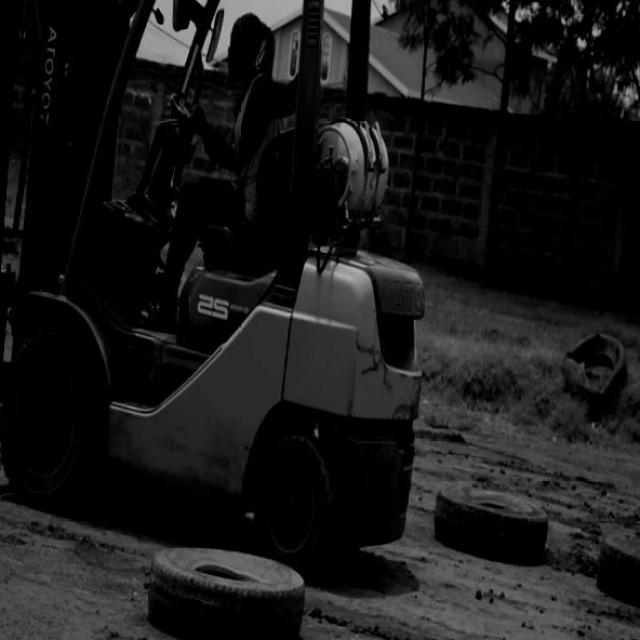driver: (129, 0, 307, 339)
forklift: (0, 0, 457, 575)
